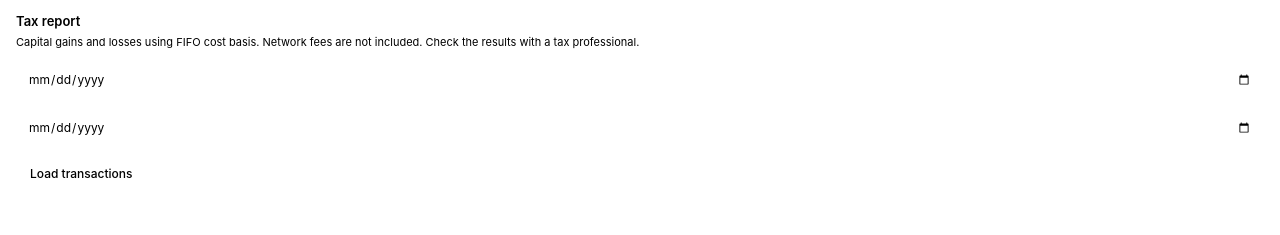
Test: TaxReportExport › date validation › shows error when from date is after to date
The image size is (1280, 235).
In the date field named "Tax report from date": point(640, 80) [16, 62, 1264, 98], type "2024-12-31"
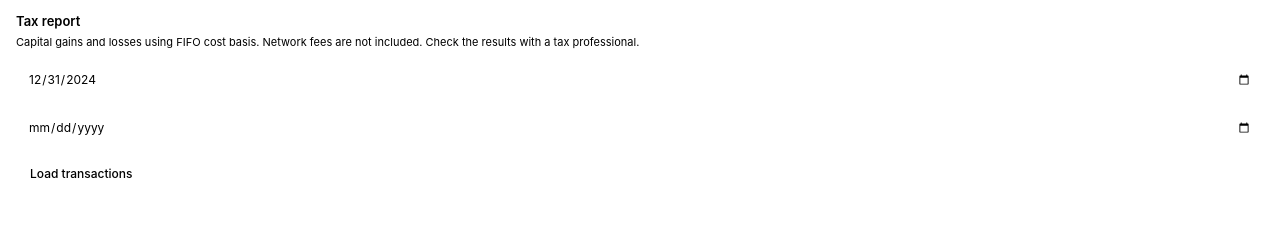
In the date field named "Tax report to date": point(640, 128) [16, 110, 1264, 146], type "2024-01-01"
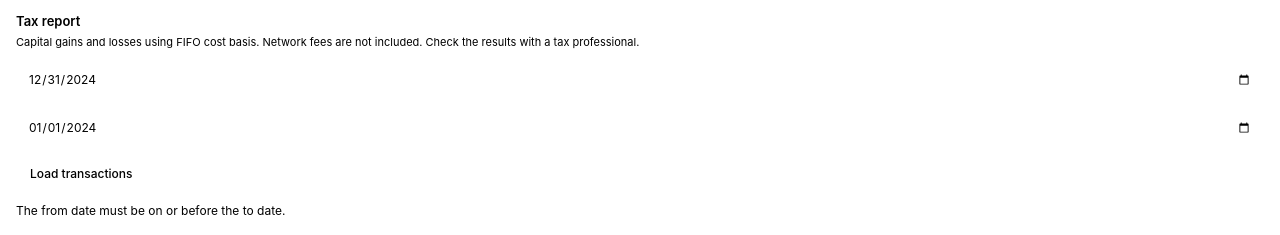
Result: the text "The from date must be on or before the to date." is shown at [16, 203, 286, 218]
